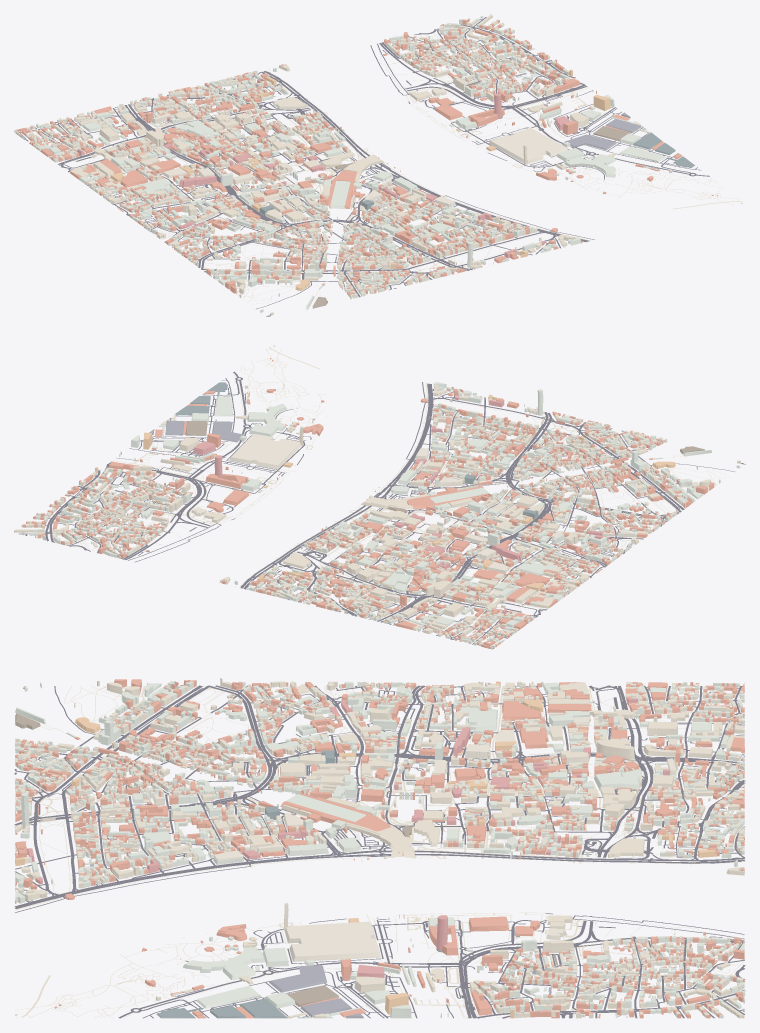
The picture shows the model from 3 angles, top to bottom: view 1: azimuth 30°, elevation 25°; view 2: azimuth 150°, elevation 25°; view 3: azimuth 270°, elevation 25°; orthographic projection. The views are drawn at different scales.
Parts seen in each view (by area): view 1: cologne-dom-zentrum-v0; view 2: cologne-dom-zentrum-v0; view 3: cologne-dom-zentrum-v0.
Boxes of the visible parts, x1,y1,x2,y2 form: cologne-dom-zentrum-v0: [14, 14, 742, 316]; cologne-dom-zentrum-v0: [14, 345, 745, 649]; cologne-dom-zentrum-v0: [14, 678, 745, 1018].
Size of the model in its own units: 2287 by 109 by 2122.
